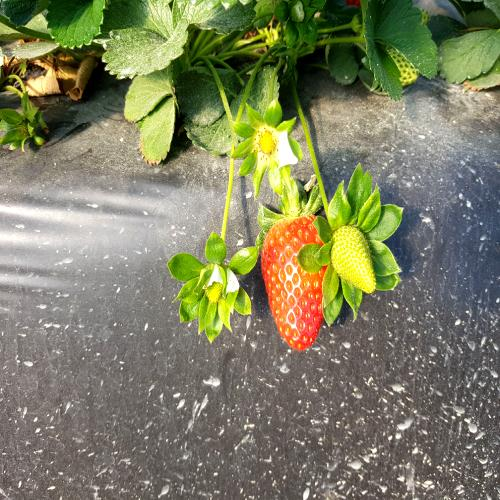ripe: (252, 207, 337, 365)
